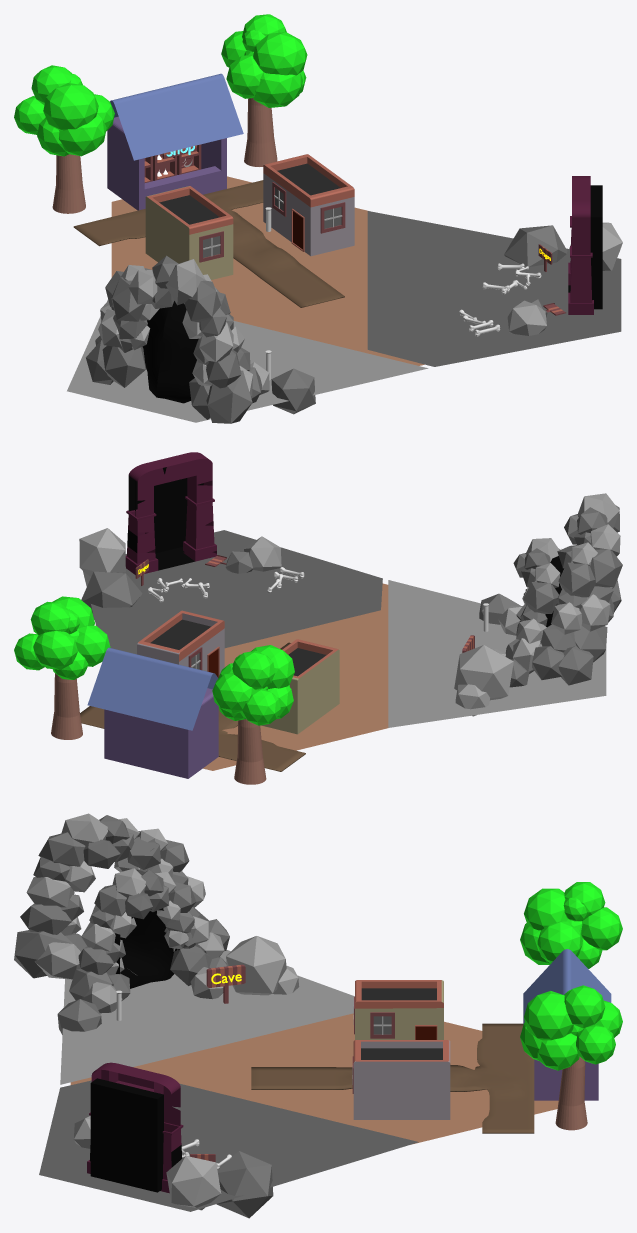
The model's file is gameWorld.glb.
3 renders of one model, top to bottom at view 1: azimuth 30°, elevation 25°; view 2: azimuth 150°, elevation 25°; view 3: azimuth 270°, elevation 25°, orthographic. The views are drawn at different scales.
Visible parts, largest first — view 1: Plane, Cave Entrance, Tree, Shop, World Plane, Plane.001, House2, Road, House1, Dragon Lair, Dragon lair stones, Stonese (+1 smaller); view 2: Plane, Cave Entrance, Plane.001, Tree, Shop, World Plane, Dragon Lair, Dragon lair stones, House1, House2, Stonese, Road (+1 smaller); view 3: Cave Entrance, Plane, Plane.001, World Plane, Tree, Dragon Lair, Road, House2, House1, Dragon lair stones, Stonese, Shop (+1 smaller).
Boxes of the visible parts, box(x1,y1,x2,y2) form: Plane: box(367, 211, 621, 366); Cave Entrance: box(86, 255, 269, 423); Tree: box(14, 14, 307, 213); Shop: box(107, 73, 243, 210); World Plane: box(111, 176, 424, 365); Plane.001: box(67, 299, 428, 422); House2: box(263, 154, 354, 256); Road: box(73, 180, 344, 307); House1: box(145, 186, 233, 279); Dragon Lair: box(568, 176, 602, 314); Dragon lair stones: box(504, 222, 622, 335); Stonese: box(271, 368, 315, 414); Plane: box(82, 530, 382, 654); Cave Entrance: box(494, 493, 622, 687); Plane.001: box(388, 580, 606, 727); Tree: box(14, 596, 294, 784); Shop: box(87, 647, 218, 778); World Plane: box(203, 583, 388, 770); Dragon Lair: box(125, 452, 216, 574); Dragon lair stones: box(79, 528, 281, 619); House1: box(261, 639, 339, 734); House2: box(137, 610, 224, 677); Stonese: box(454, 593, 520, 716); Road: box(80, 642, 305, 771); Cave Entrance: box(14, 813, 229, 1013); Plane: box(39, 1080, 418, 1211); Plane.001: box(60, 950, 354, 1084); World Plane: box(70, 1013, 558, 1144); Tree: box(520, 882, 622, 1130); Dragon Lair: box(87, 1062, 183, 1193); Road: box(251, 1023, 534, 1133); House2: box(352, 1040, 450, 1119); House1: box(353, 980, 443, 1039); Dragon lair stones: box(73, 1116, 273, 1218); Stonese: box(57, 936, 299, 1035); Shop: box(523, 949, 611, 1100).
Size of the model in its own units: 25.11 by 7.86 by 23.65.
